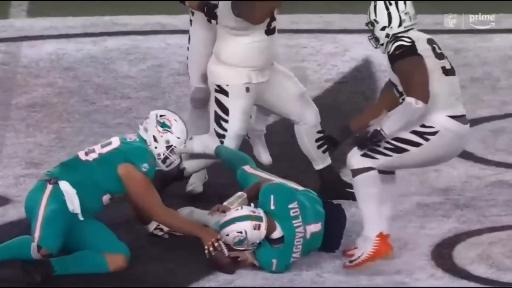Helmet: (139, 110, 187, 170), (366, 2, 416, 52), (219, 206, 267, 250)
Jersey: (45, 134, 156, 216), (243, 166, 324, 273), (386, 30, 465, 115), (209, 2, 276, 82)
Player: (0, 110, 218, 283), (343, 2, 469, 268), (208, 2, 353, 199), (179, 141, 346, 273), (187, 2, 217, 135), (187, 2, 216, 135)
